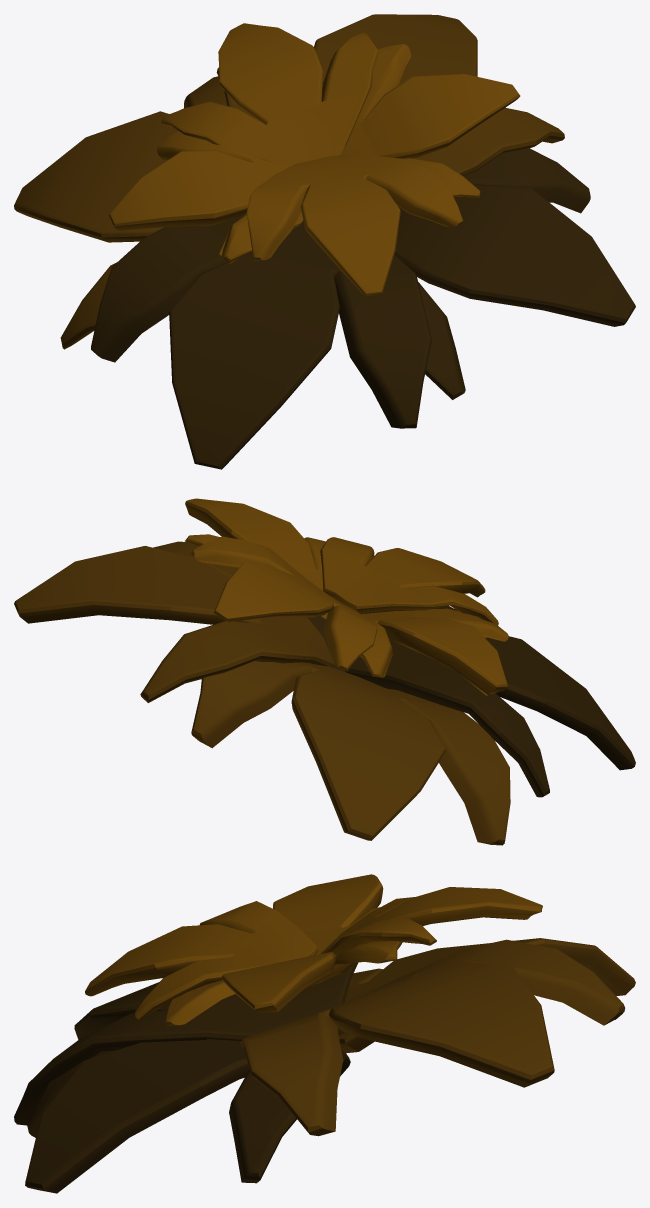
Rendered from LeavesFromOutdoorScene.obj.
3 views of the same model, one above another, from view 1: azimuth 30°, elevation 25°; view 2: azimuth 150°, elevation 25°; view 3: azimuth 270°, elevation 25° (orthographic). The views are drawn at different scales.
Visible parts, largest first — view 1: LeafGroup4 Tree LeafClusterMini1_Leaves4, Leaves4 LeafCluster1 LeafGroup4 Tree, LeafCluster1 LeafGroup4 Tree Leaves1, LeafCluster1 LeafGroup4 Tree Leaves3, LeafCluster1 LeafGroup4 Tree Leaves2; view 2: LeafGroup4 Tree LeafClusterMini1_Leaves4, LeafCluster1 LeafGroup4 Tree Leaves3, LeafCluster1 LeafGroup4 Tree Leaves2, Leaves4 LeafCluster1 LeafGroup4 Tree; view 3: LeafCluster1 LeafGroup4 Tree Leaves2, LeafGroup4 Tree LeafClusterMini1_Leaves4, LeafCluster1 LeafGroup4 Tree Leaves1, Leaves4 LeafCluster1 LeafGroup4 Tree, LeafCluster1 LeafGroup4 Tree Leaves3.
Boxes of the visible parts, <box> form: LeafGroup4 Tree LeafClusterMini1_Leaves4: <box>109,23,520,296</box>; Leaves4 LeafCluster1 LeafGroup4 Tree: <box>91,214,431,469</box>; LeafCluster1 LeafGroup4 Tree Leaves1: <box>394,148,635,399</box>; LeafCluster1 LeafGroup4 Tree Leaves3: <box>14,76,227,349</box>; LeafCluster1 LeafGroup4 Tree Leaves2: <box>216,14,564,176</box>; LeafGroup4 Tree LeafClusterMini1_Leaves4: <box>185,498,508,695</box>; LeafCluster1 LeafGroup4 Tree Leaves3: <box>191,661,510,845</box>; LeafCluster1 LeafGroup4 Tree Leaves2: <box>14,541,334,702</box>; Leaves4 LeafCluster1 LeafGroup4 Tree: <box>345,606,635,797</box>; LeafCluster1 LeafGroup4 Tree Leaves2: <box>240,939,625,1136</box>; LeafGroup4 Tree LeafClusterMini1_Leaves4: <box>85,874,542,1025</box>; LeafCluster1 LeafGroup4 Tree Leaves1: <box>25,1039,350,1193</box>; Leaves4 LeafCluster1 LeafGroup4 Tree: <box>14,962,357,1125</box>; LeafCluster1 LeafGroup4 Tree Leaves3: <box>338,938,635,1053</box>.
Size of the model in its own units: 0.9542 by 0.503 by 0.9717.
